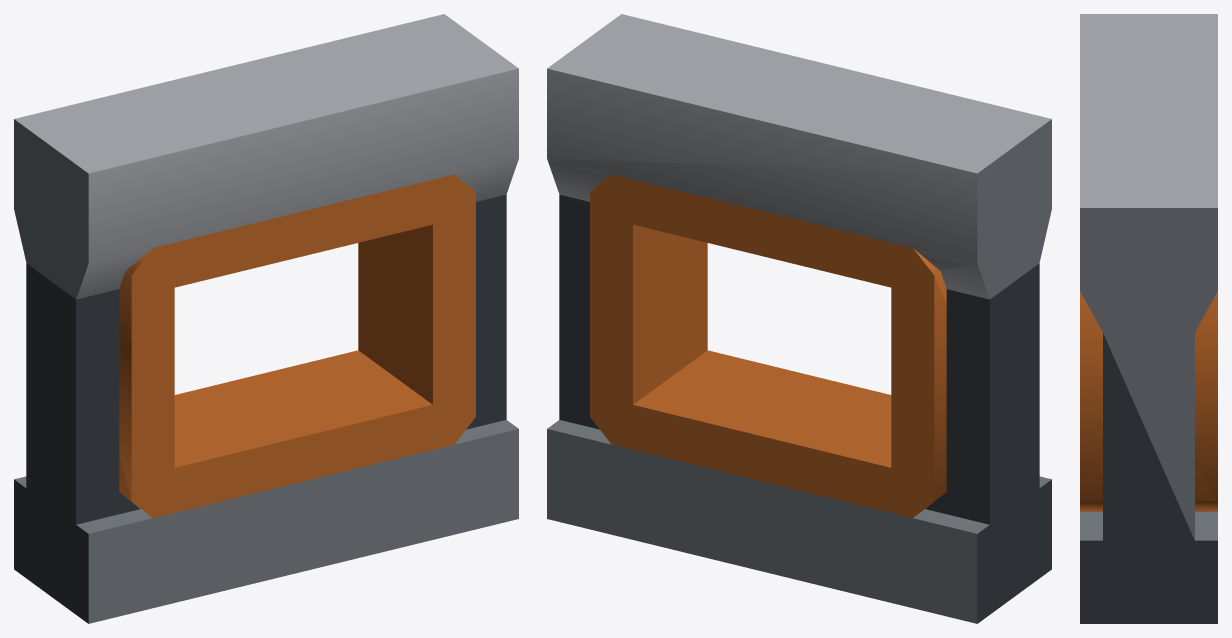
Rendered from Kit_wall-window.fbx.
The picture shows the model from 3 angles, left to right: view 1: azimuth 30°, elevation 25°; view 2: azimuth 150°, elevation 25°; view 3: azimuth 270°, elevation 25°; orthographic projection. The views are drawn at different scales.
Visible parts, largest first — view 1: Kit_wall-window; view 2: Kit_wall-window; view 3: Kit_wall-window.
Boxes of the visible parts, x1,y1,x2,y2 form: Kit_wall-window: [14, 14, 518, 623]; Kit_wall-window: [547, 14, 1051, 623]; Kit_wall-window: [1080, 14, 1217, 623].
Size of the model in its own units: 1 by 1 by 0.3.
